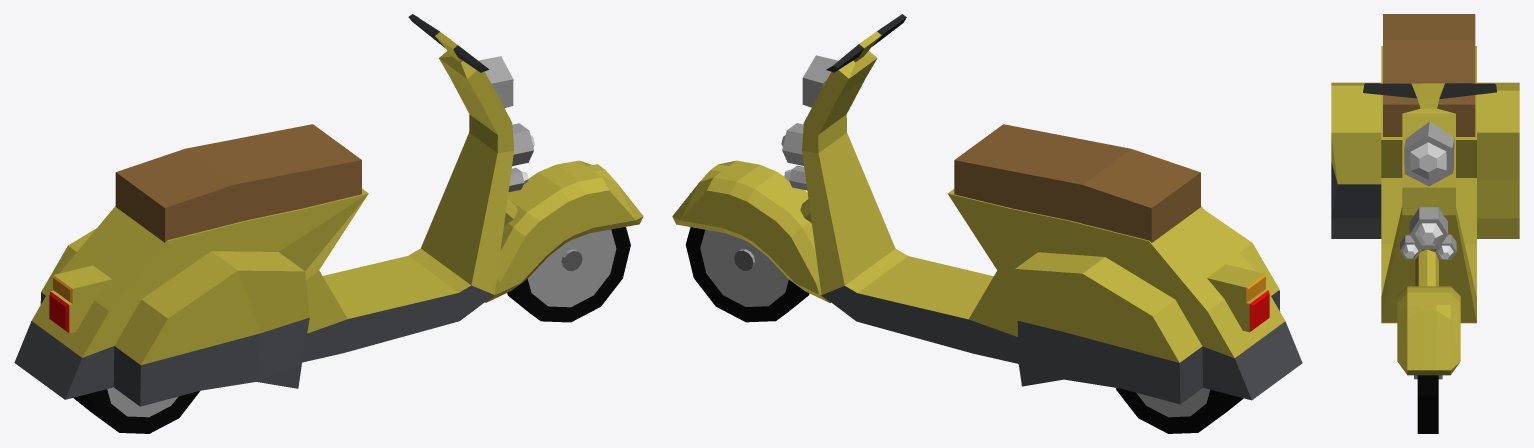
The model's file is SCOOTER_V1.fbx.
3 renders of one model, left to right at view 1: azimuth 30°, elevation 25°; view 2: azimuth 150°, elevation 25°; view 3: azimuth 270°, elevation 25°, orthographic. The views are drawn at different scales.
Visible parts, largest first — view 1: Plane; view 2: Plane; view 3: Plane.
Boxes of the visible parts, x1,y1,x2,y2 form: Plane: (14, 14, 643, 433); Plane: (672, 14, 1302, 433); Plane: (1331, 14, 1519, 433).
Bounding box in the file's own units: 849 × 423 × 248.
